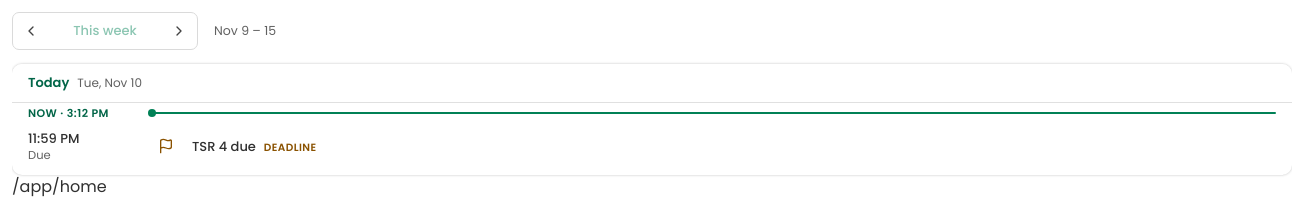
Test: ScheduleAgenda › opens a deadline in the app
Click the link "TSR 4 due" at (224, 146), box [192, 137, 256, 156]
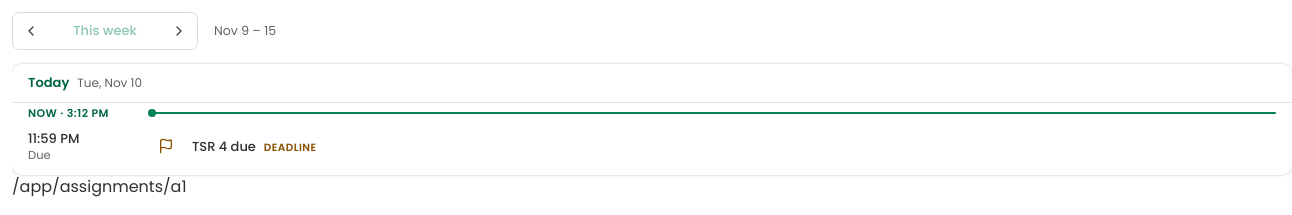
Check: the text with test id "where" reads "/app/assignments/a1", box [12, 175, 187, 198]
